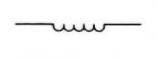inductor: (38, 12, 122, 41)
